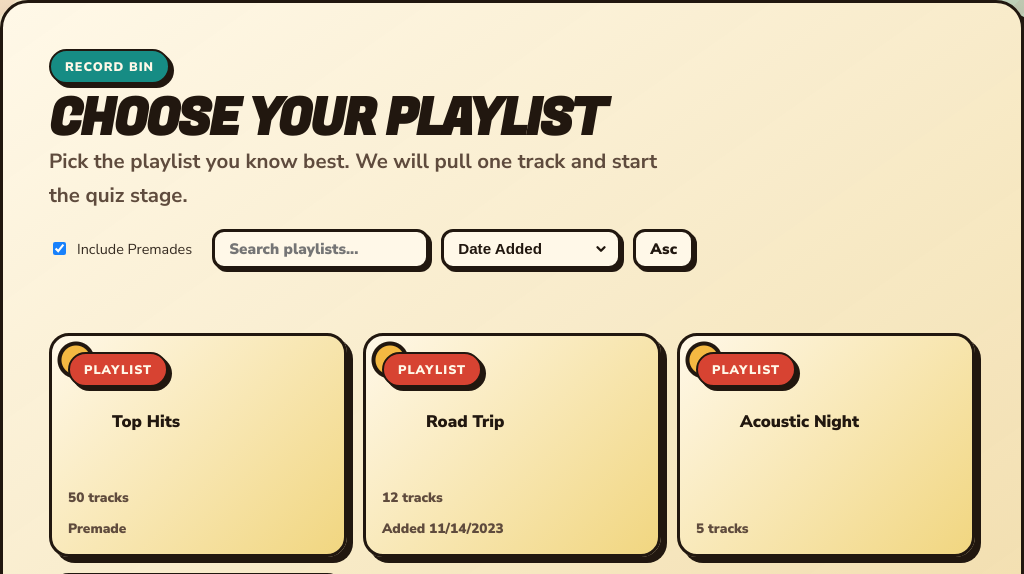
it: PlaylistMenu › filters premade playlists and persists the toggle preference
Expected: the button "Playlist Top Hits 50 tracks Premade" is shown, [49,333,347,557]
Click the checkbox labelled "Include Premades": (60, 249) [53,242,66,255]
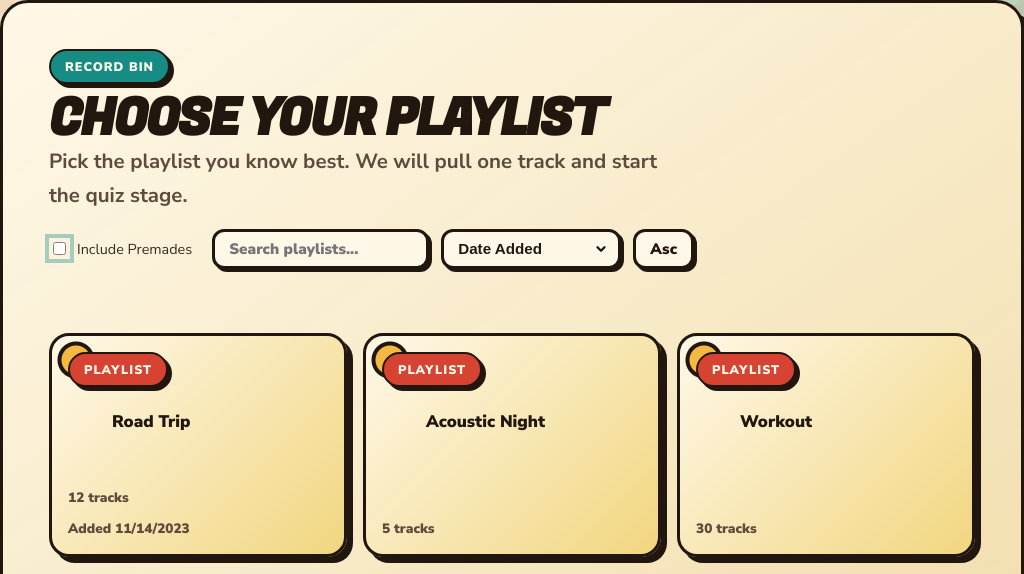
Result: the button "Top Hits" is gone
